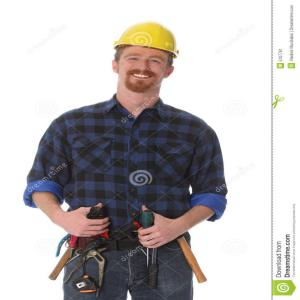yellow: (113, 20, 176, 92)
